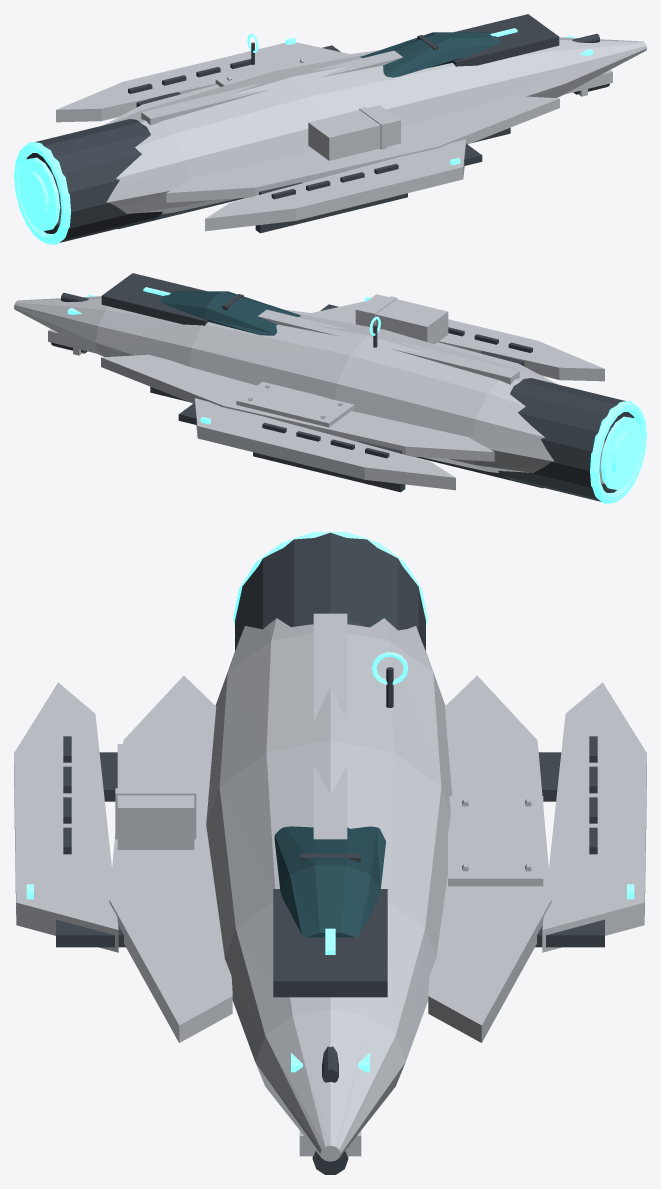
The model's file is kestrel_reference.glb.
3 renders of one model, top to bottom at view 1: azimuth 30°, elevation 25°; view 2: azimuth 150°, elevation 25°; view 3: azimuth 270°, elevation 25°, orthographic. The views are drawn at different scales.
Parts seen in each view (by area): view 1: Kestrel_Centerline_Service_Break, Kestrel_Antenna_Mast, Kestrel_Antenna_Loop, Kestrel_Recessed_Canopy; view 2: Kestrel_Centerline_Service_Break, Kestrel_Antenna_Mast, Kestrel_Antenna_Loop, Kestrel_Recessed_Canopy; view 3: Kestrel_Centerline_Service_Break, Kestrel_Antenna_Mast, Kestrel_Recessed_Canopy, Kestrel_Antenna_Loop.
Boxes of the visible parts, <box> form: Kestrel_Centerline_Service_Break: <box>48,37,646,231</box>; Kestrel_Antenna_Mast: <box>26,14,609,242</box>; Kestrel_Antenna_Loop: <box>14,28,593,244</box>; Kestrel_Recessed_Canopy: <box>360,32,500,77</box>; Kestrel_Centerline_Service_Break: <box>14,294,612,490</box>; Kestrel_Antenna_Mast: <box>51,273,634,501</box>; Kestrel_Antenna_Loop: <box>67,287,646,503</box>; Kestrel_Recessed_Canopy: <box>160,291,300,335</box>; Kestrel_Centerline_Service_Break: <box>14,613,646,1161</box>; Kestrel_Antenna_Mast: <box>56,532,604,1174</box>; Kestrel_Recessed_Canopy: <box>274,826,385,937</box>; Kestrel_Antenna_Loop: <box>26,532,634,1072</box>.
Size of the model in its own units: 27.69 by 6.48 by 13.6.
